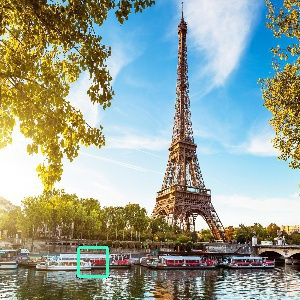square: (76, 245, 109, 280)
